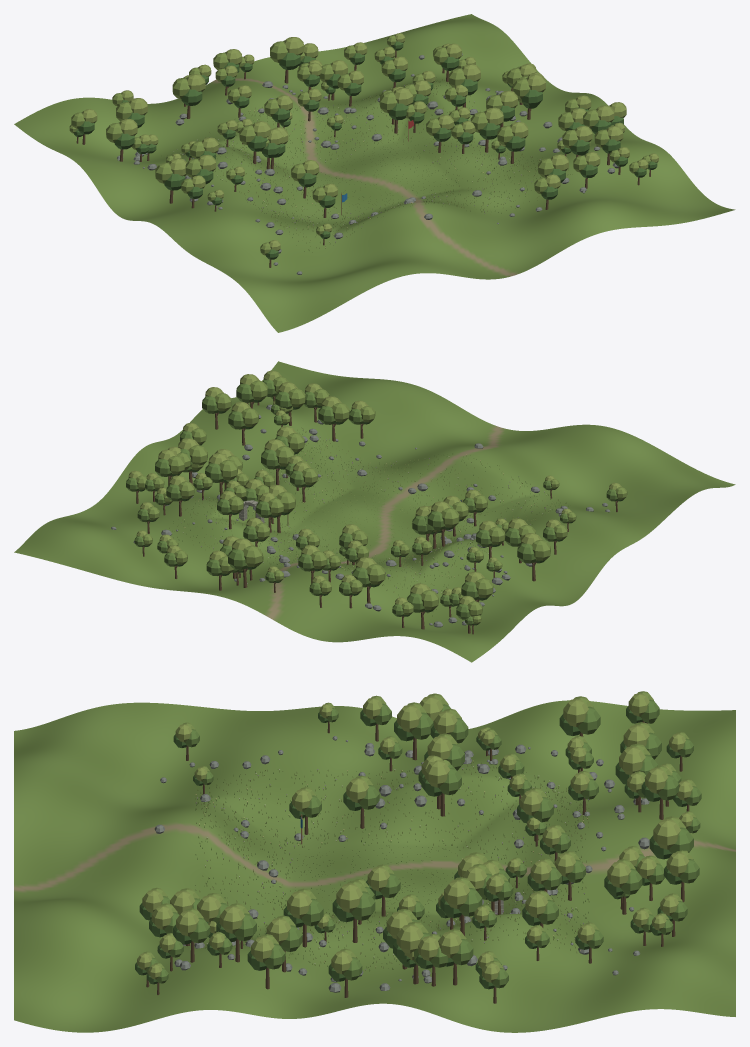
File: meadow.glb
3 views of the same model, one above another, from view 1: azimuth 30°, elevation 25°; view 2: azimuth 150°, elevation 25°; view 3: azimuth 270°, elevation 25° (orthographic). The views are drawn at different scales.
Visible parts, largest first — view 1: Terrain, TreeCanopies, Rocks, GrassAndFlowers, TreeTrunks; view 2: Terrain, TreeCanopies, Rocks, TreeTrunks, GrassAndFlowers; view 3: Terrain, TreeCanopies, Rocks, TreeTrunks, GrassAndFlowers.
Boxes of the visible parts, left/top/right/bottom form: Terrain: left=14, top=14, right=735, bottom=332; TreeCanopies: left=69, top=33, right=658, bottom=259; Rocks: left=117, top=53, right=618, bottom=274; GrassAndFlowers: left=161, top=77, right=572, bottom=252; TreeTrunks: left=76, top=50, right=650, bottom=267; Terrain: left=14, top=361, right=735, bottom=662; TreeCanopies: left=126, top=370, right=627, bottom=625; Rocks: left=111, top=404, right=610, bottom=627; TreeTrunks: left=136, top=396, right=618, bottom=634; GrassAndFlowers: left=169, top=427, right=568, bottom=616; Terrain: left=14, top=700, right=735, bottom=1032; TreeCanopies: left=135, top=691, right=701, bottom=989; Rocks: left=154, top=736, right=649, bottom=992; TreeTrunks: left=146, top=721, right=689, bottom=1003; GrassAndFlowers: left=194, top=760, right=589, bottom=971.
Size of the model in its own units: 64 by 9.7 by 64.
